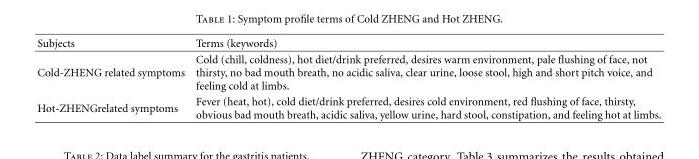table: (36, 36, 660, 120)
table column: (189, 36, 660, 120), (36, 36, 189, 120)
table column header: (36, 36, 660, 50)
table row: (36, 50, 660, 93), (36, 93, 660, 120), (36, 36, 660, 50)
